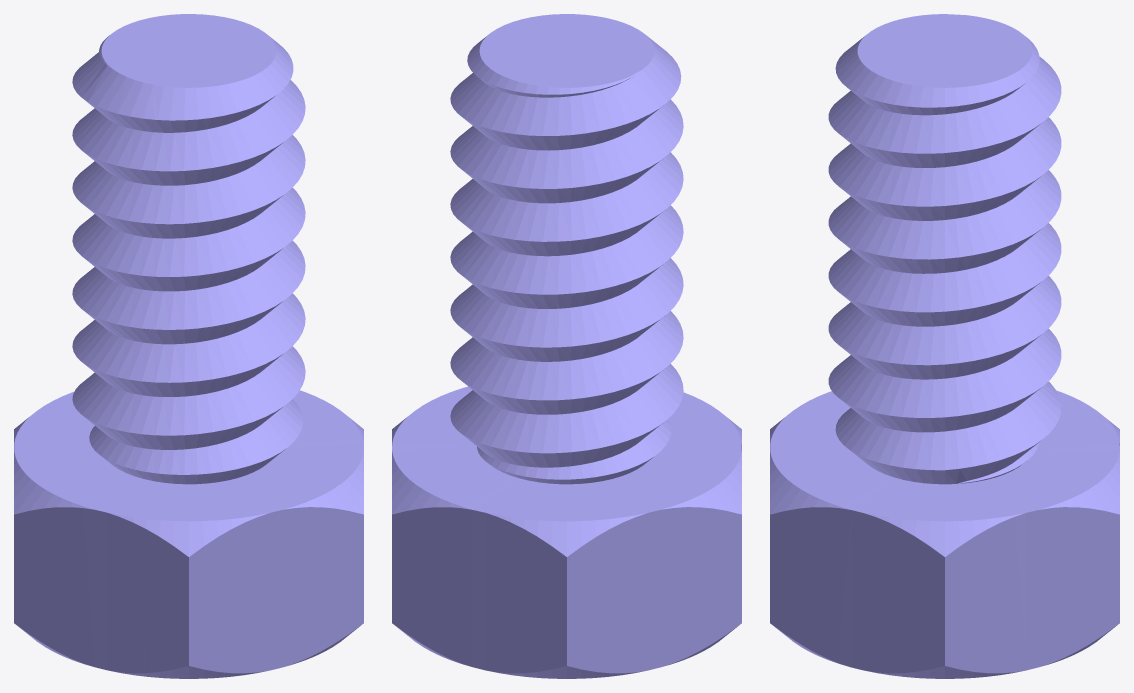
Rendered from screw.dae.
3 renders of one model, left to right at view 1: azimuth 30°, elevation 25°; view 2: azimuth 150°, elevation 25°; view 3: azimuth 270°, elevation 25°, orthographic.
Visible parts, largest first — view 1: mesh_1_screw_big; view 2: mesh_1_screw_big; view 3: mesh_1_screw_big.
Boxes of the visible parts, x1,y1,x2,y2 form: mesh_1_screw_big: [14, 14, 363, 678]; mesh_1_screw_big: [392, 14, 741, 678]; mesh_1_screw_big: [770, 14, 1119, 678].
Size of the model in its own units: 0.042 by 0.0364 by 0.0636.
